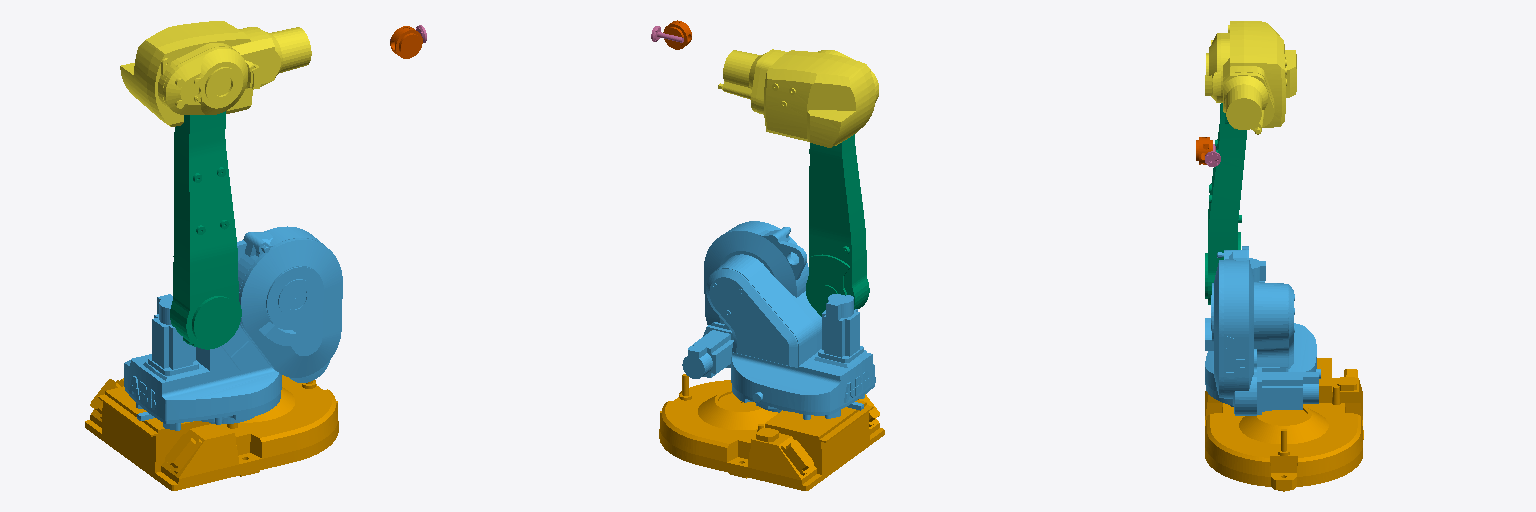
The robot description file, URDF, robot "robot_manipulator":
<?xml version="1.0"?>
<robot name="robot_manipulator">

  <!-- Base Link -->
  <link name="base_link">
    <visual name="visual">
      <origin xyz="0 0 0" rpy="0 0 0" />
      <geometry>
        <mesh filename="package://manipulator/meshes/base_link.dae"/>
      </geometry>
    </visual>
  </link>

  <!-- Joint 1 -->
  <joint name="joint_1" type="revolute">
    <origin xyz="0 0 0.1255" rpy="0 0 0"/>
    <axis xyz="0 0 1"/>
    <parent link="base_link"/>
    <child link="link_1"/>
    <limit effort="10.0" lower="-2.967" upper="2.967" velocity="1.7453"/>
  </joint>

  <!-- Link 1 -->
  <link name="link_1">
    <visual name="visual">
      <origin xyz="0 0 -0.1255" rpy="0 0 0" />
      <geometry>
        <mesh filename="package://manipulator/meshes/link_1.dae"/>
      </geometry>
    </visual>
  </link>

  <!-- Joint 2 -->
  <joint name="joint_2" type="revolute">
    <origin xyz="0.15 0.137 0.4865" rpy="0 0 0"/>
    <axis xyz="0 1 0"/>
    <parent link="link_1"/>
    <child link="link_2"/>
    <limit effort="10.0" lower="-1.134" upper="1.4855" velocity="1.5707"/>
  </joint>

  <!-- Link 2 -->
  <link name="link_2">
    <visual name="visual">
      <origin xyz="-0.15 -0.137 -0.612" rpy="0 0 0" />
      <geometry>
        <mesh filename="package://manipulator/meshes/link_2.dae"/>
      </geometry>
    </visual>
  </link>

  <!-- Joint 3 -->
  <joint name="joint_3" type="revolute">
    <origin xyz="0.15 0.107 1.1865" rpy="0 0 0"/>
    <axis xyz="0 1 0"/>
    <parent link="link_2"/>
    <child link="link_3"/>
    <limit effort="10.0" lower="-3.142" upper="1.222" velocity="1.5707"/>
  </joint>

  <!-- Link 3 -->
  <link name="link_3">
    <visual name="visual">
      <origin xyz="-0.3 -0.244 -1.7985" rpy="0 0 0" />
      <geometry>
        <mesh filename="package://manipulator/meshes/link_3.dae"/>
      </geometry>
    </visual>
  </link>

  <!-- Joint 4 -->
  <joint name="joint_4" type="revolute">
    <origin xyz="0.464 0 1.1865" rpy="0 0 0"/>
    <axis xyz="1 0 0"/>
    <parent link="link_3"/>
    <child link="link_4"/>
    <limit effort="10.0" lower="-5.236" upper="5.236" velocity="2.9671"/>
  </joint>

  <!-- Link 4 -->
  <link name="link_4">
    <visual name="visual">
      <origin xyz="-0.764 -0.244 -2.985" rpy="0 0 0" />
      <geometry>
        <mesh filename="package://manipulator/meshes/link_4.dae"/>
      </geometry>
    </visual>
  </link>

  <!-- Joint 5 -->
  <joint name="joint_5" type="revolute">
    <origin xyz="0.75 0.00005 1.1865" rpy="0 0 0"/>
    <axis xyz="0 1 0"/>
    <parent link="link_4"/>
    <child link="link_5"/>
    <limit effort="10.0" lower="-2.094" upper="2.094" velocity="2.4435"/>
  </joint>

  <!-- Link 5 -->
  <link name="link_5">
    <visual name="visual">
      <origin xyz="-1.514 -0.24405 -4.1715" rpy="0 0 0" />
      <geometry>
        <mesh filename="package://manipulator/meshes/link_5.dae"/>
      </geometry>
    </visual>
  </link>

  <!-- Joint 6 -->
  <joint name="joint_6" type="revolute">
    <origin xyz="0.717 0.00005 1.1865" rpy="0 0 0"/>
    <axis xyz="1 0 0"/>
    <parent link="link_5"/>
    <child link="link_6"/>
    <limit effort="10.0" lower="-6.283" upper="6.283" velocity="3.3161"/>
  </joint>

  <!-- Link 6 -->
  <link name="link_6">
    <visual name="visual">
      <origin xyz="-2.231 -0.24410 -5.358" rpy="0 0 0" />
      <geometry>
        <mesh filename="package://manipulator/meshes/link_6.dae"/>
      </geometry>
    </visual>
  </link>

</robot>

--- What the picture shows (computed from the rendered views, not written in the file) ---
The picture shows the robot from 3 angles, left to right: view 1: azimuth 30°, elevation 25°; view 2: azimuth 150°, elevation 25°; view 3: azimuth 270°, elevation 25°; orthographic projection.
Model robot_manipulator with 7 links and 6 joints (6 revolute), rooted at base_link, posed all joints at 0.
Links seen in each view (by area): view 1: link_1, base_link, link_2, link_3, link_5; view 2: link_1, base_link, link_3, link_2, link_5; view 3: link_1, base_link, link_3, link_2.
Link boxes in pixels (<box>): link_1: <box>124,226,342,430</box>; base_link: <box>85,375,338,490</box>; link_2: <box>170,111,241,349</box>; link_3: <box>120,21,311,126</box>; link_5: <box>390,26,422,58</box>; link_1: <box>682,221,875,419</box>; base_link: <box>659,374,884,490</box>; link_3: <box>718,49,878,147</box>; link_2: <box>806,134,869,316</box>; link_5: <box>663,20,691,49</box>; link_1: <box>1205,246,1320,415</box>; base_link: <box>1205,358,1363,491</box>; link_3: <box>1205,21,1296,134</box>; link_2: <box>1205,103,1246,304</box>.
Size in the robot's own frame: 0.8151 by 0.5078 by 1.29 metres.
Meshes: 7 distinct files referenced, 6 mesh visuals loaded (6 Collada DAE); not drawn: 1 (reference not matched to a file when rendering).